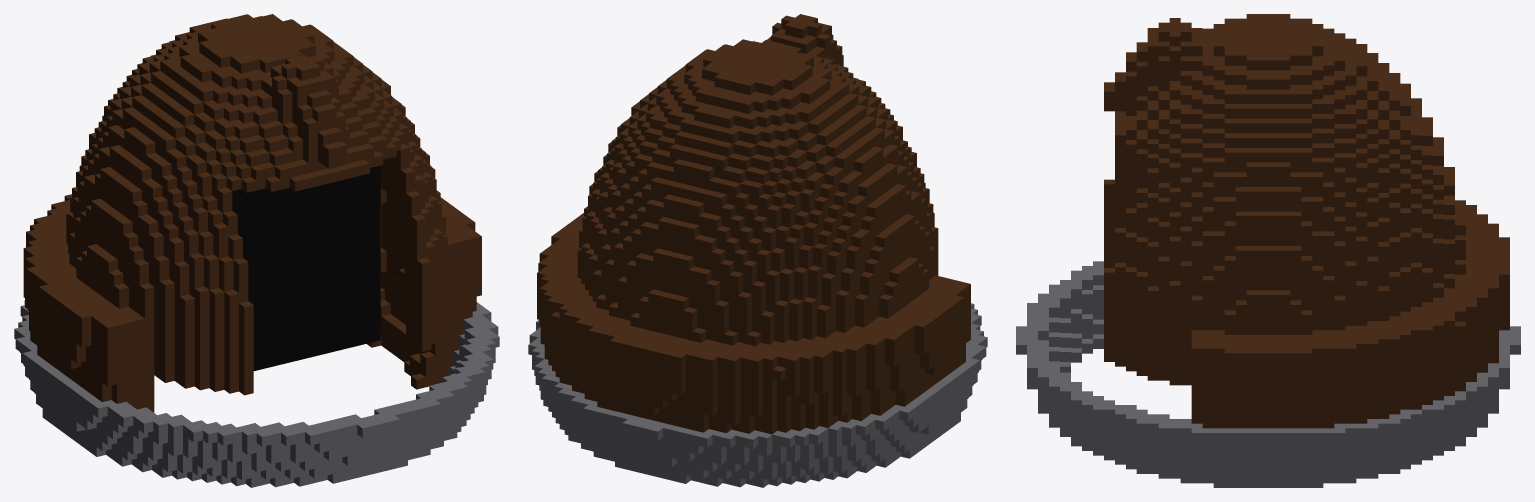
File: mystic_uncommon_helmet.glb
3 views of the same model, side by side, from view 1: azimuth 30°, elevation 25°; view 2: azimuth 150°, elevation 25°; view 3: azimuth 270°, elevation 25° (orthographic). The views are drawn at different scales.
Visible parts, largest first — view 1: mystic_uncommon_helmet; view 2: mystic_uncommon_helmet; view 3: mystic_uncommon_helmet.
Boxes of the visible parts, x1=… form: mystic_uncommon_helmet: x1=14, y1=14, x2=499, y2=487; mystic_uncommon_helmet: x1=528, y1=14, x2=987, y2=487; mystic_uncommon_helmet: x1=1016, y1=14, x2=1520, y2=487.
Size of the model in its own units: 0.504 by 0.444 by 0.552.
